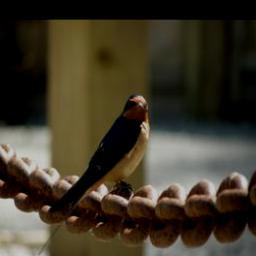Swallow: (34, 93, 152, 256)
